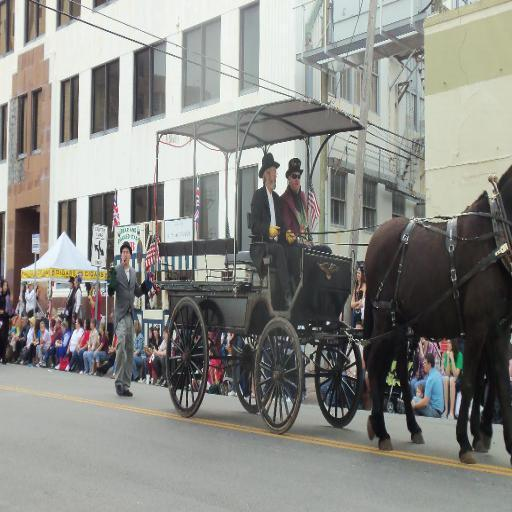horse: (363, 163, 511, 467)
